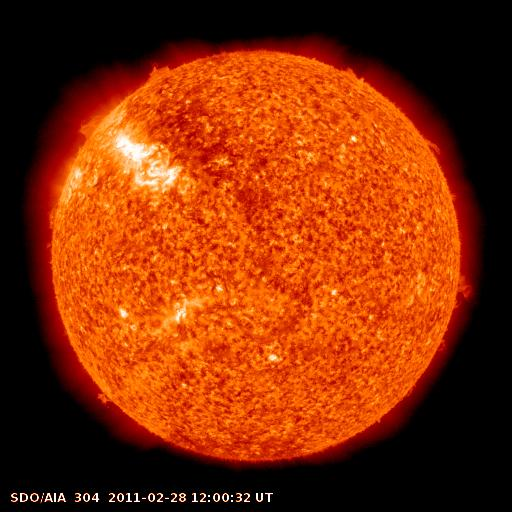prominence: (133, 52, 190, 94), (80, 375, 128, 423), (66, 103, 112, 148), (405, 124, 451, 167), (444, 266, 482, 315)
